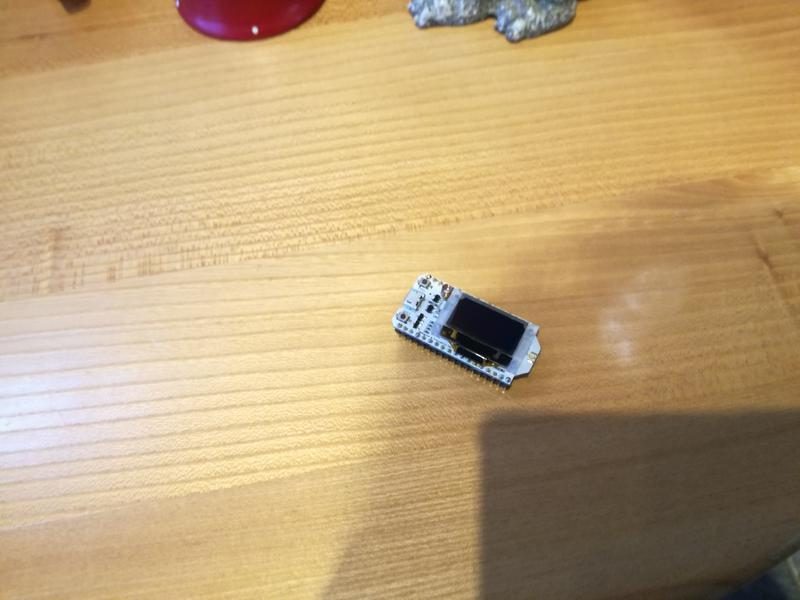Heltec_ESP32_Lora: (389, 271, 543, 398)
